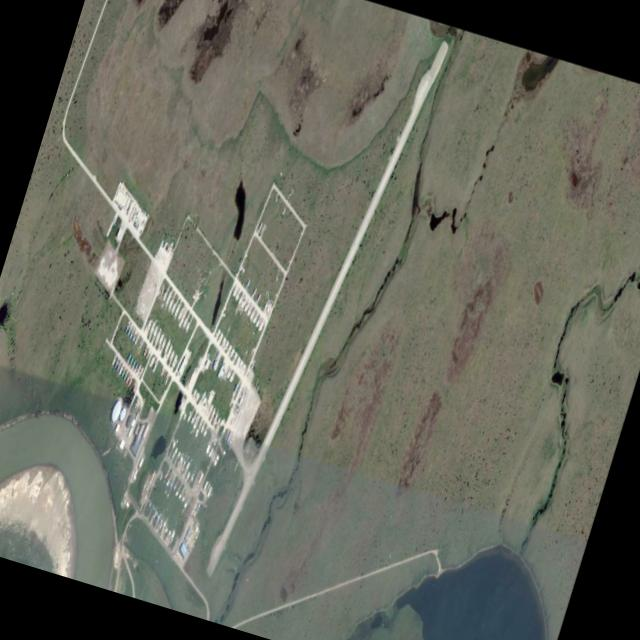storage-tank: (107, 400, 122, 424), (124, 414, 133, 428), (118, 407, 126, 421)
